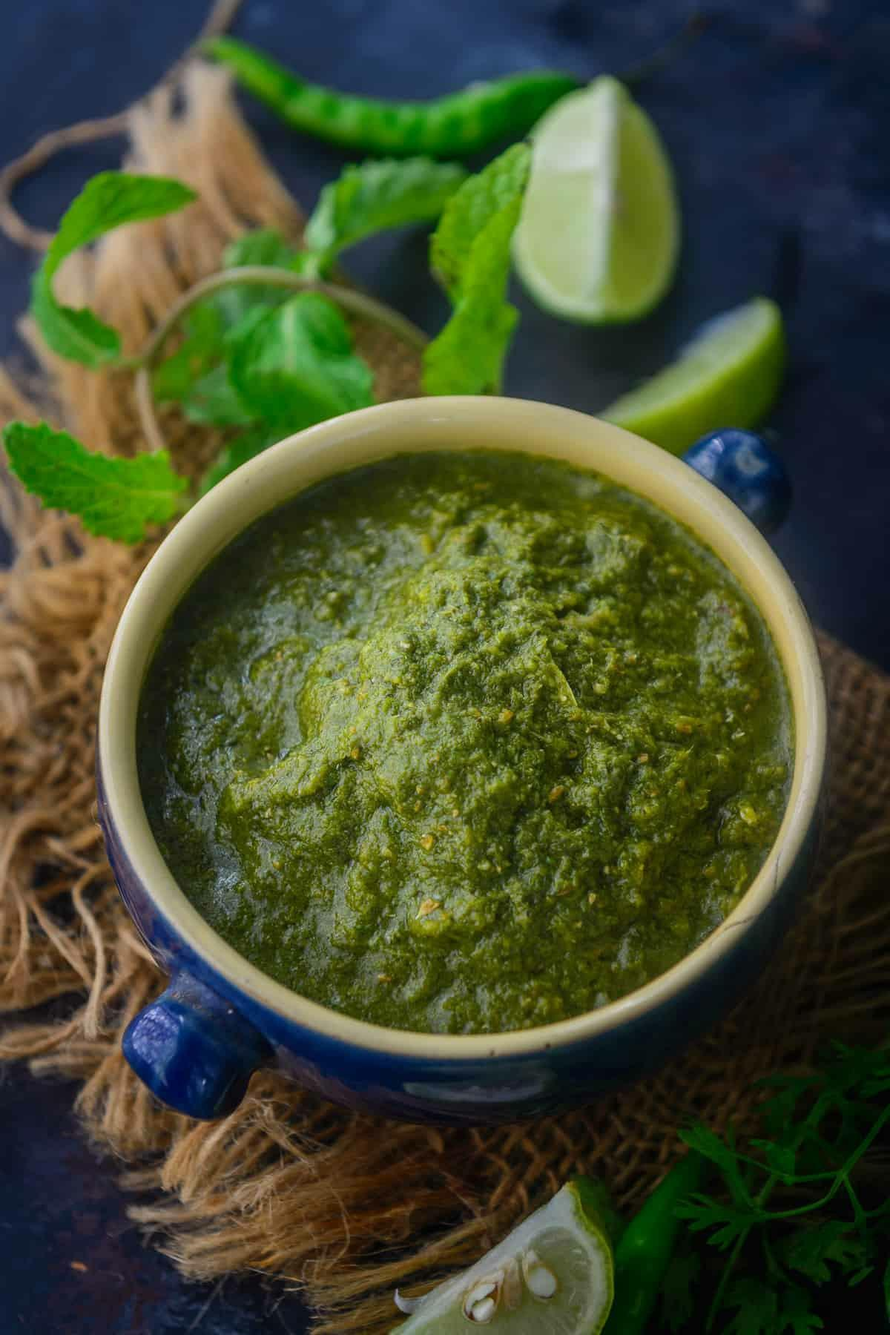GreenChutney: (135, 454, 793, 1027)
